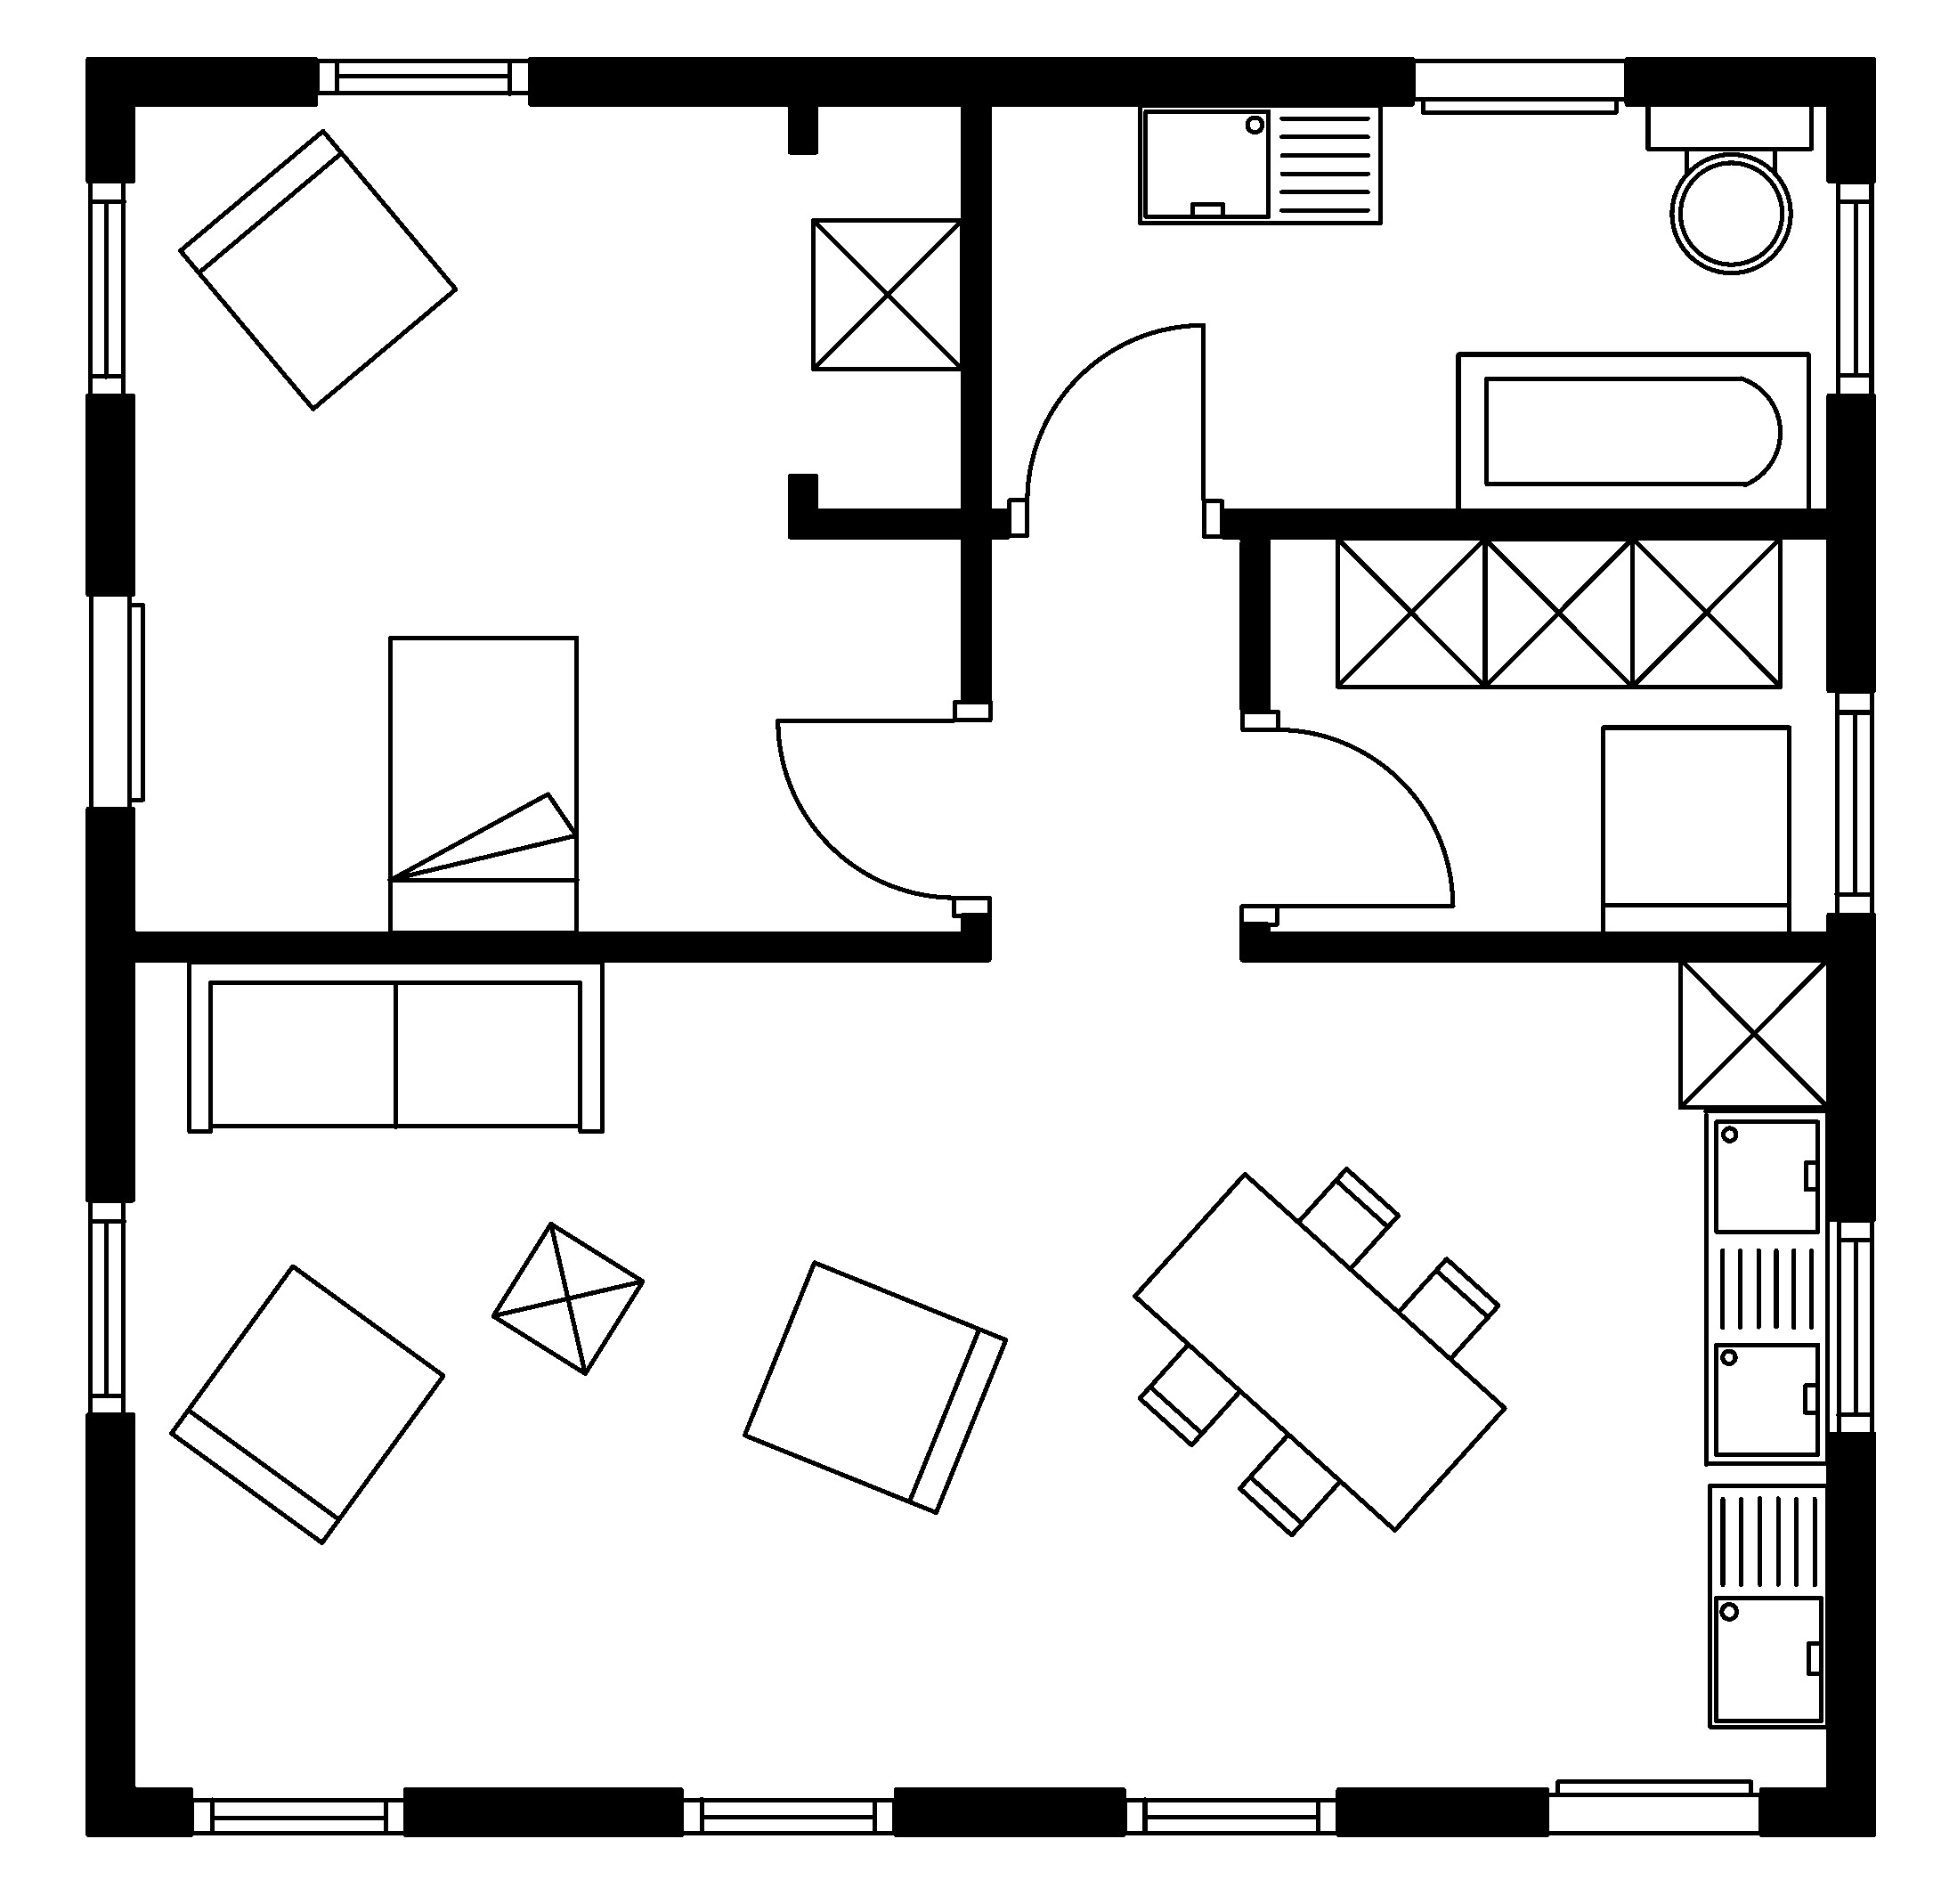bed: (385, 633, 580, 935)
coffee_table: (488, 1221, 645, 1377), (809, 216, 966, 371), (1480, 534, 1635, 689), (1628, 534, 1783, 689), (1333, 534, 1489, 689), (1675, 955, 1830, 1111)
dining_table: (1131, 1165, 1508, 1538)
large_sink: (1644, 101, 1814, 274)
large_sofa: (185, 959, 605, 1135)
sink: (1135, 101, 1384, 227), (1706, 1482, 1830, 1730)
small_sofa: (176, 127, 458, 411), (167, 1262, 446, 1547), (739, 1259, 1007, 1515), (1598, 724, 1792, 936)
tub: (1454, 350, 1811, 513)
twin_sink: (1701, 1107, 1830, 1468)
